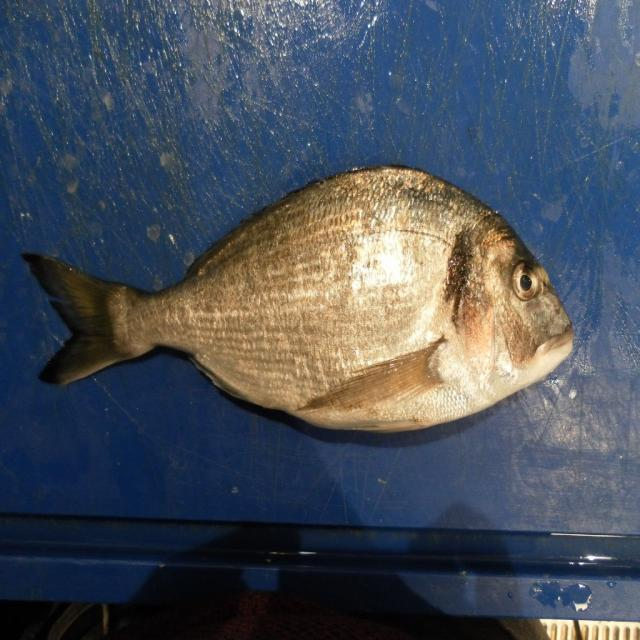Gilt-Head-Bream-c-ipura-: (21, 165, 575, 438)
